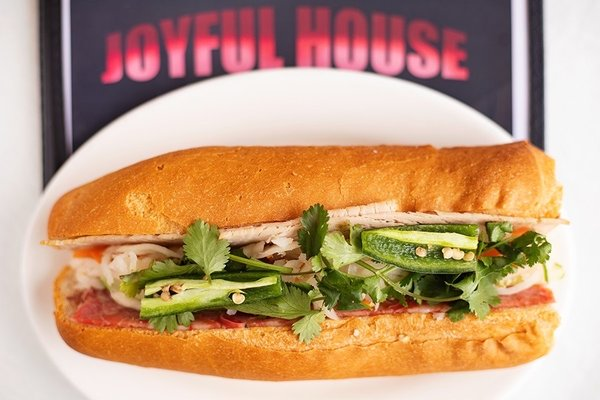soup: (41, 142, 563, 382)
